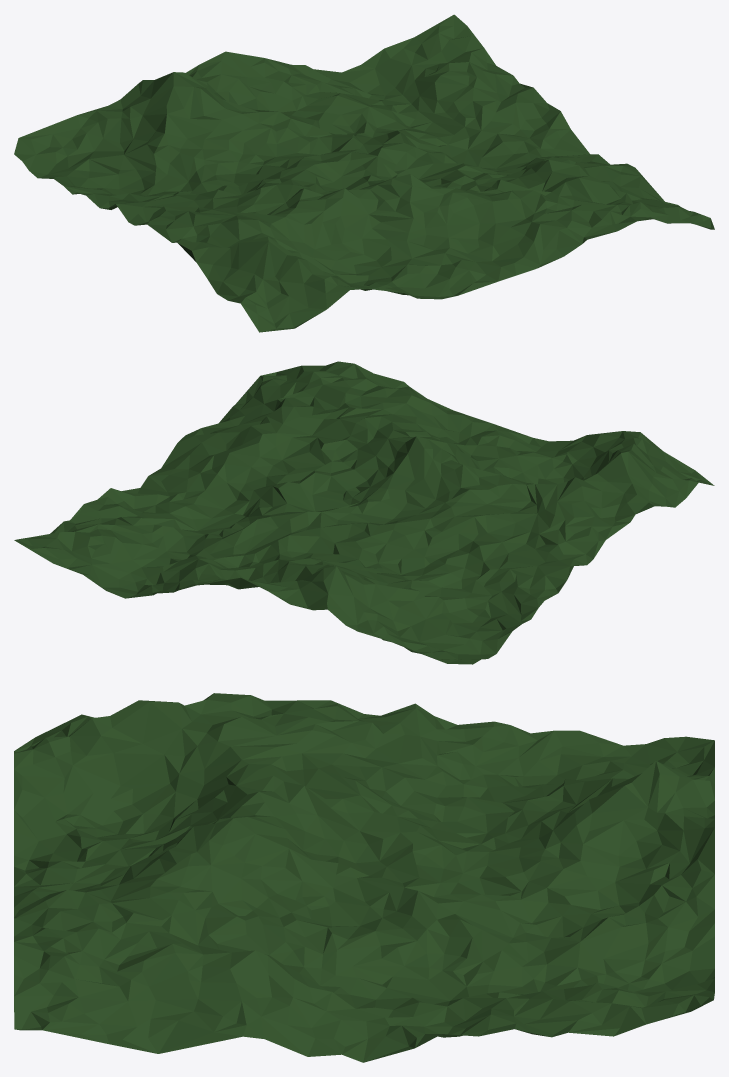
File: SM_landscape_02.fbx
3 views of the same model, one above another, from view 1: azimuth 30°, elevation 25°; view 2: azimuth 150°, elevation 25°; view 3: azimuth 270°, elevation 25° (orthographic). The views are drawn at different scales.
Parts seen in each view (by area): view 1: landscape_02; view 2: landscape_02; view 3: landscape_02.
Boxes of the visible parts, x1,y1,x2,y2 form: landscape_02: (14,14,714,332); landscape_02: (14,361,714,664); landscape_02: (14,693,714,1062).
Size of the model in its own units: 2224 by 359 by 2224.
